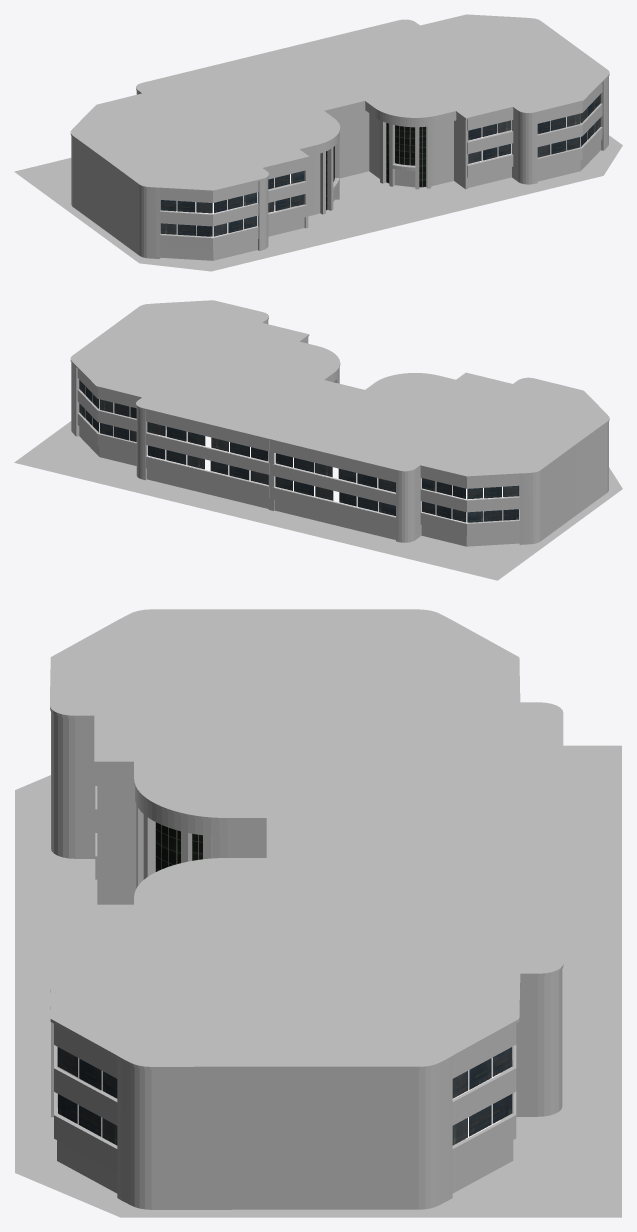
3 renders of one model, top to bottom at view 1: azimuth 30°, elevation 25°; view 2: azimuth 150°, elevation 25°; view 3: azimuth 270°, elevation 25°, orthographic. The views are drawn at different scales.
Visible parts, largest first — view 1: DC-12; view 2: DC-12; view 3: DC-12.
Boxes of the visible parts, <box> form: DC-12: <box>14,14,622,271</box>; DC-12: <box>14,300,622,580</box>; DC-12: <box>15,609,621,1217</box>.
Size of what is drawn, in the model's own units: 72 by 10.23 by 39.11.
